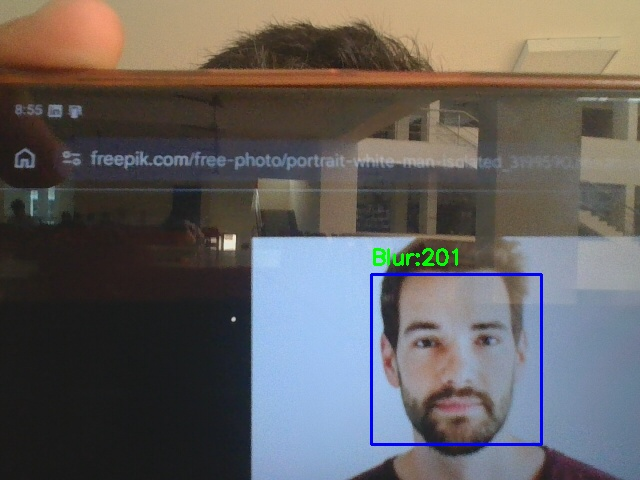fake: (371, 274, 541, 444)
